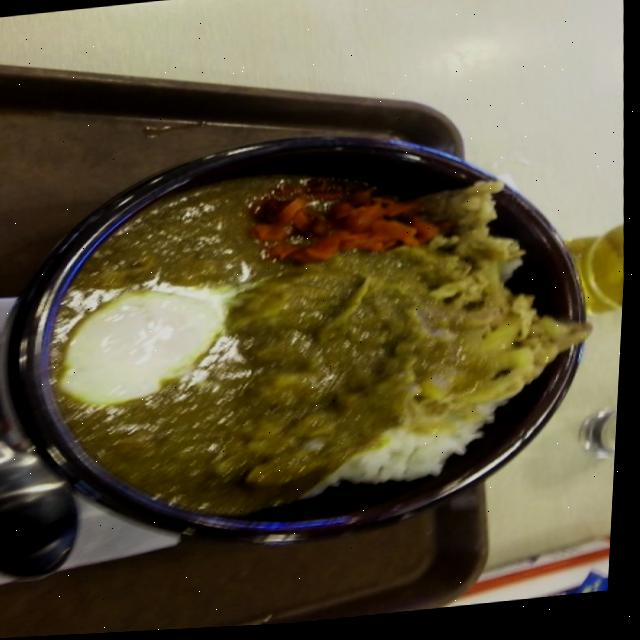牛肉菜式: (0, 122, 610, 573)
